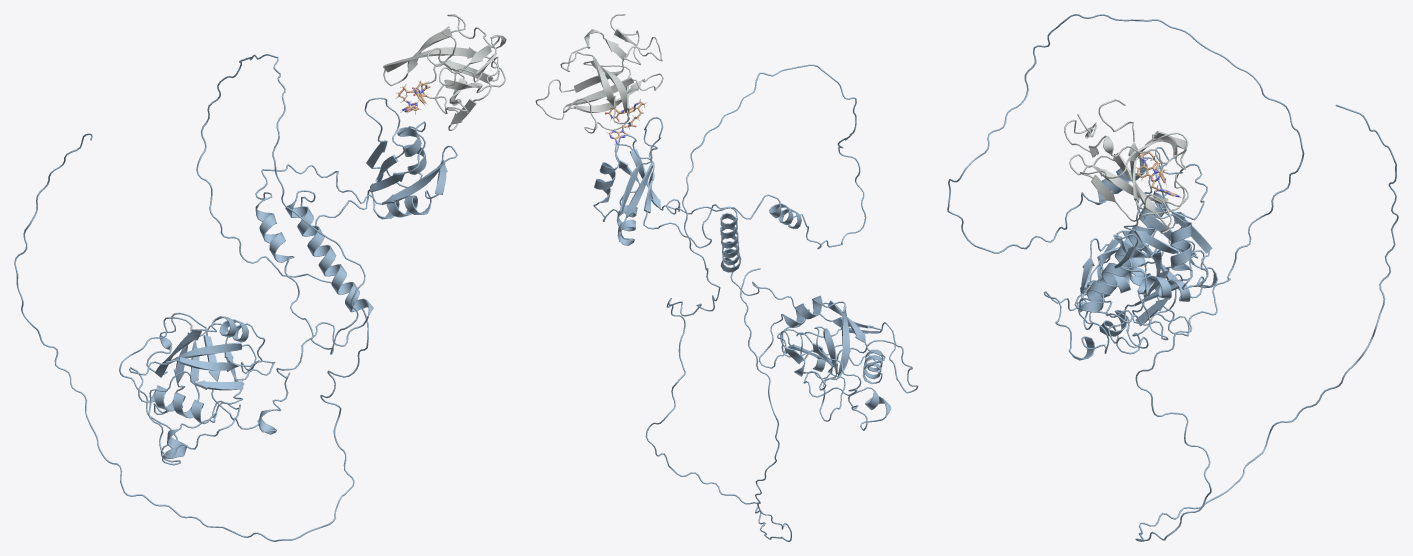
The model's file is TM-04-064-02_positive_control.glb.
3 views of the same model, side by side, from view 1: azimuth 30°, elevation 25°; view 2: azimuth 150°, elevation 25°; view 3: azimuth 270°, elevation 25° (orthographic). The views are drawn at different scales.
Visible parts, largest first — view 1: node-geom141, node-geom142; view 2: node-geom141, node-geom142; view 3: node-geom141, node-geom142.
Boxes of the visible parts, bbox=[...] form: node-geom141: bbox=[119, 14, 506, 465]; node-geom142: bbox=[14, 54, 457, 541]; node-geom141: bbox=[535, 14, 918, 430]; node-geom142: bbox=[593, 64, 866, 541]; node-geom141: bbox=[1043, 99, 1218, 360]; node-geom142: bbox=[947, 14, 1398, 541].
Size of the model in its own units: 110 by 133 by 107.
